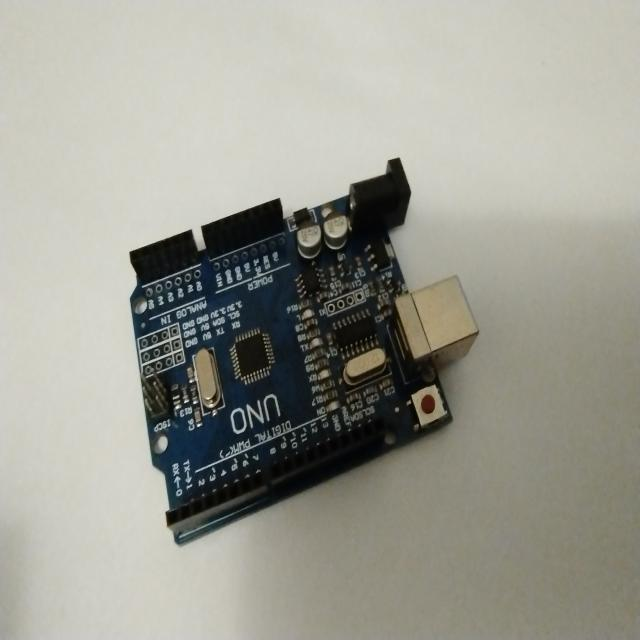arduino: (134, 142, 475, 555)
